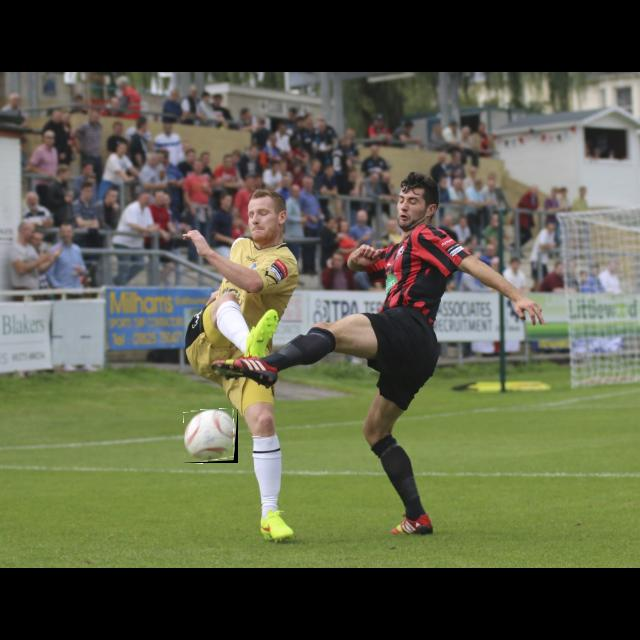Football: (184, 409, 238, 463)
